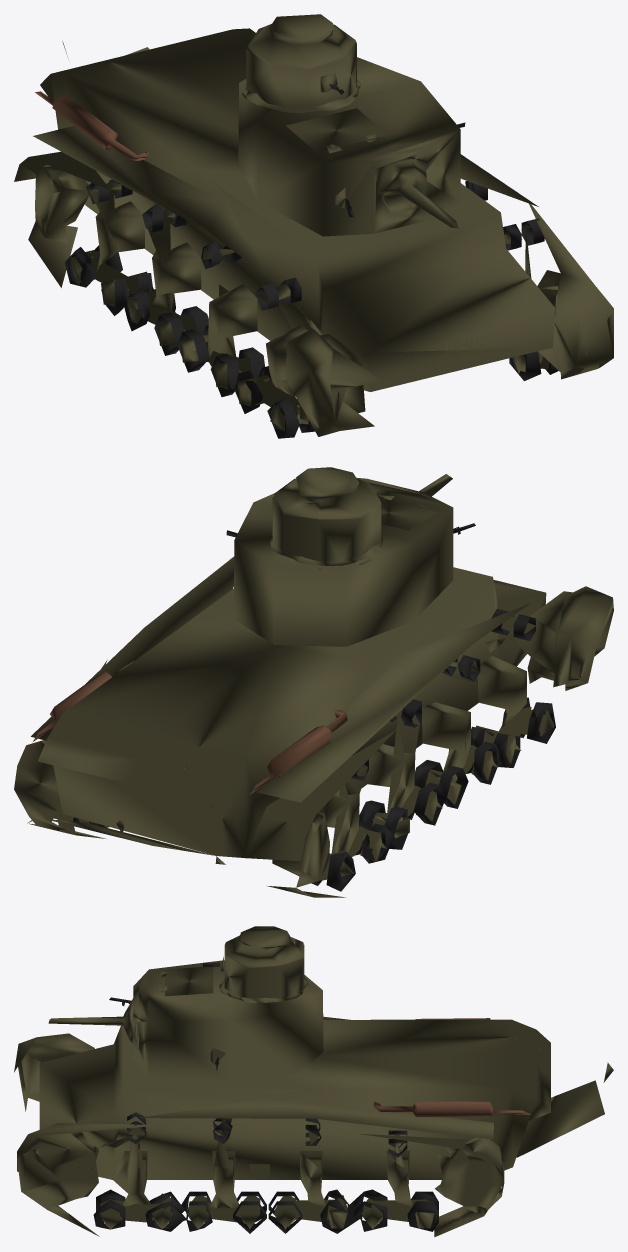
File: t12_enkel.glb
3 renders of one model, top to bottom at view 1: azimuth 30°, elevation 25°; view 2: azimuth 150°, elevation 25°; view 3: azimuth 270°, elevation 25°, orthographic. The views are drawn at different scales.
Visible parts, largest first — view 1: T-26 BODY, T-26 TOWER; view 2: T-26 BODY, T-26 TOWER; view 3: T-26 BODY, T-26 TOWER.
Part boxes in pixels (x1,y1,x2,y2): T-26 BODY: [14, 28, 613, 438]; T-26 TOWER: [238, 14, 465, 236]; T-26 BODY: [14, 556, 613, 897]; T-26 TOWER: [226, 467, 475, 646]; T-26 BODY: [14, 1016, 613, 1237]; T-26 TOWER: [48, 926, 323, 1082].
Size of the model in its own units: 2.59 by 2.64 by 5.94.
